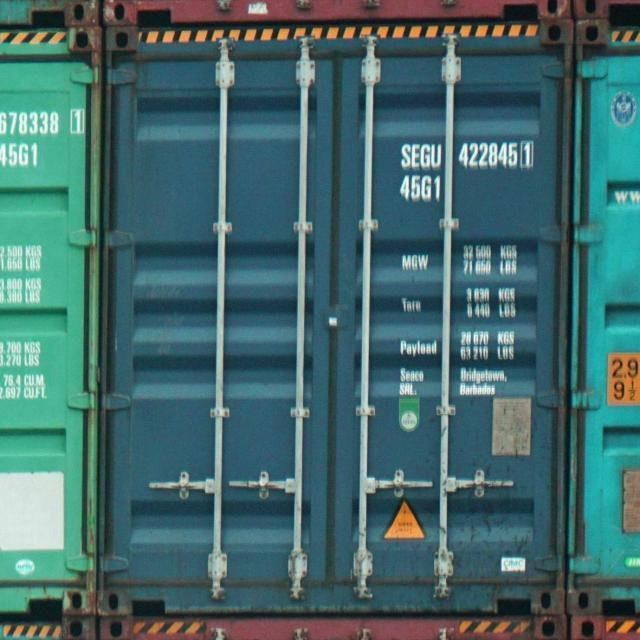ISO: (397, 174, 443, 202)
container_number: (396, 138, 539, 170)
